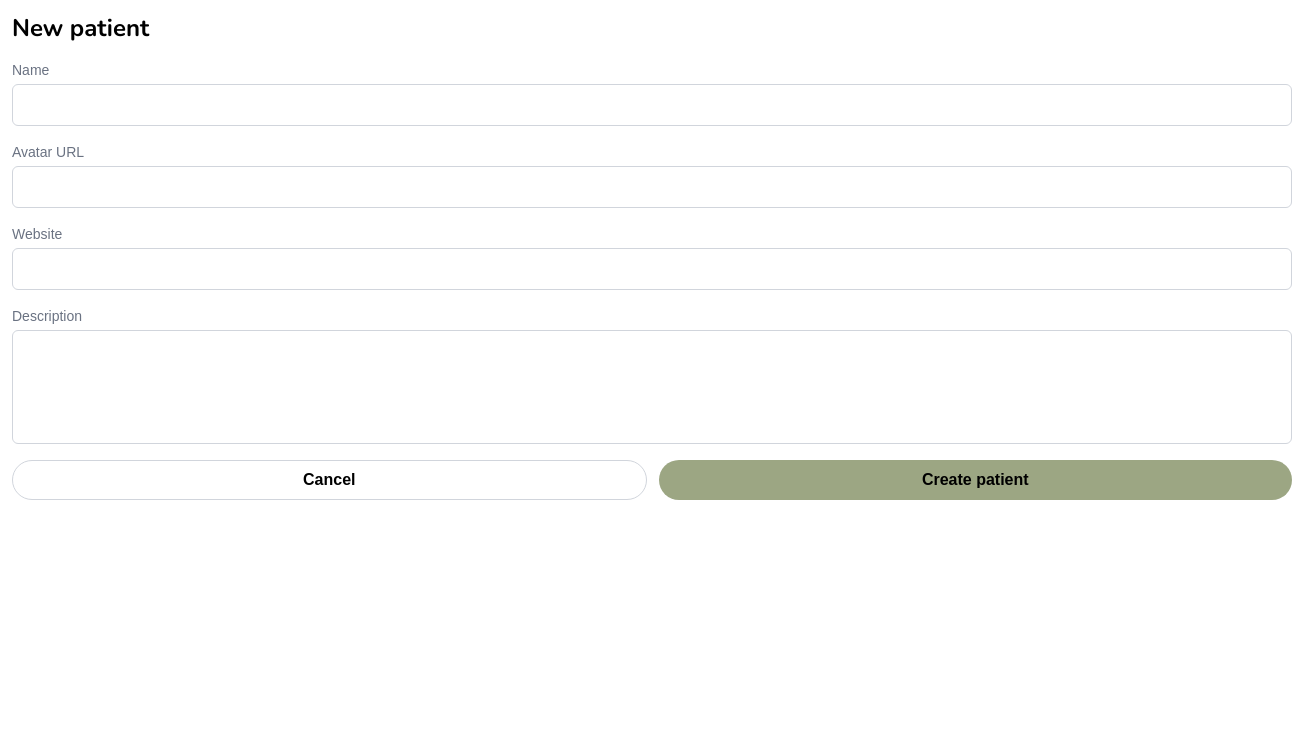
Test case: PatientForm › create mode (patient=null) › shows URL validation error for invalid avatar URL
This screenshot has width=1304, height=732.
Type "Test Patient" into the field labelled "Name" at (652, 105), box top-left (12, 84), bottom-right (1292, 126)
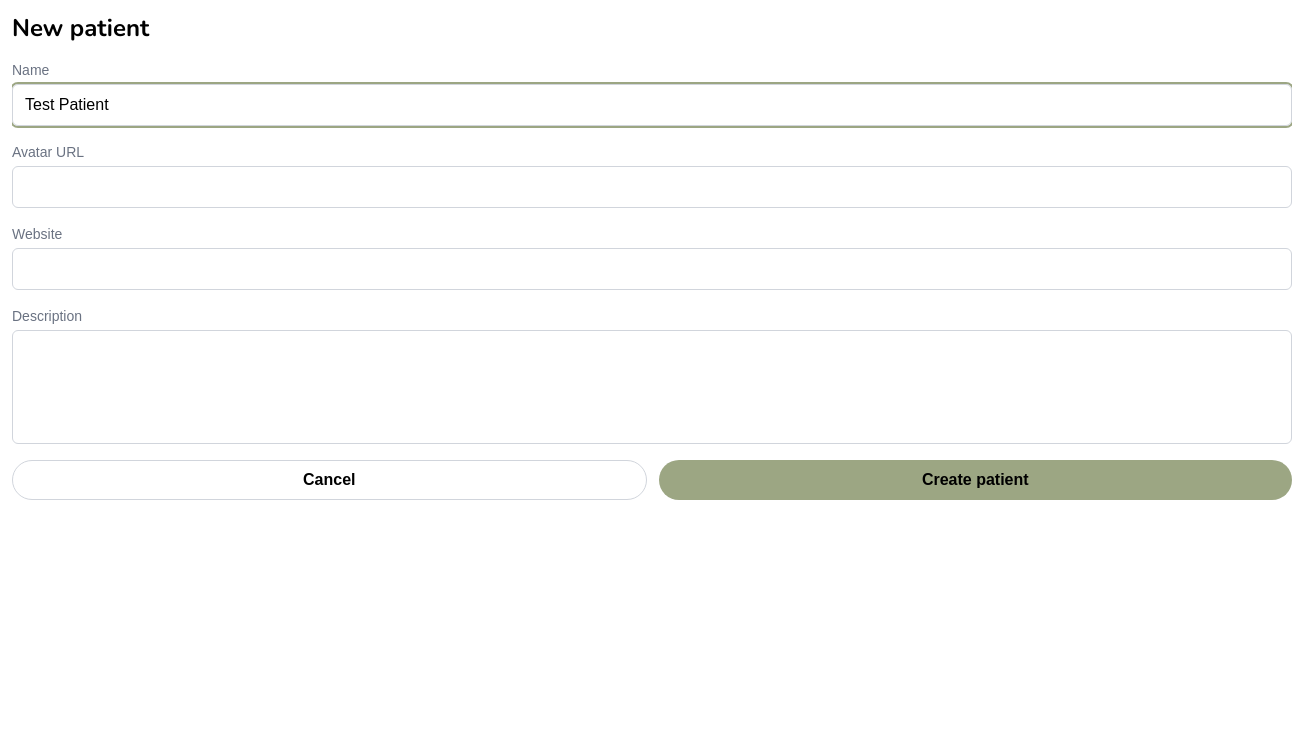
Type "not-a-url" into the field labelled "Avatar URL" at (652, 187), box top-left (12, 166), bottom-right (1292, 208)
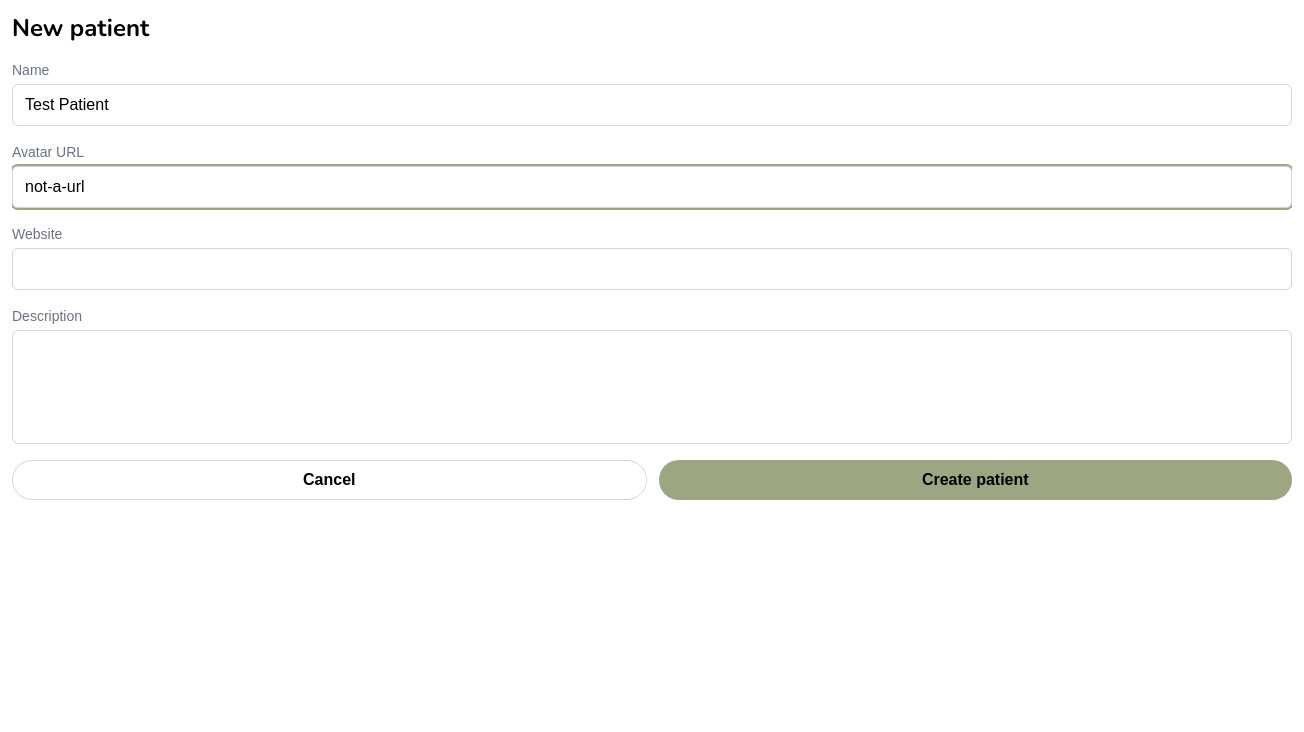
Type "Some description" into the text box labelled "Description" at (652, 387), box top-left (12, 330), bottom-right (1292, 444)
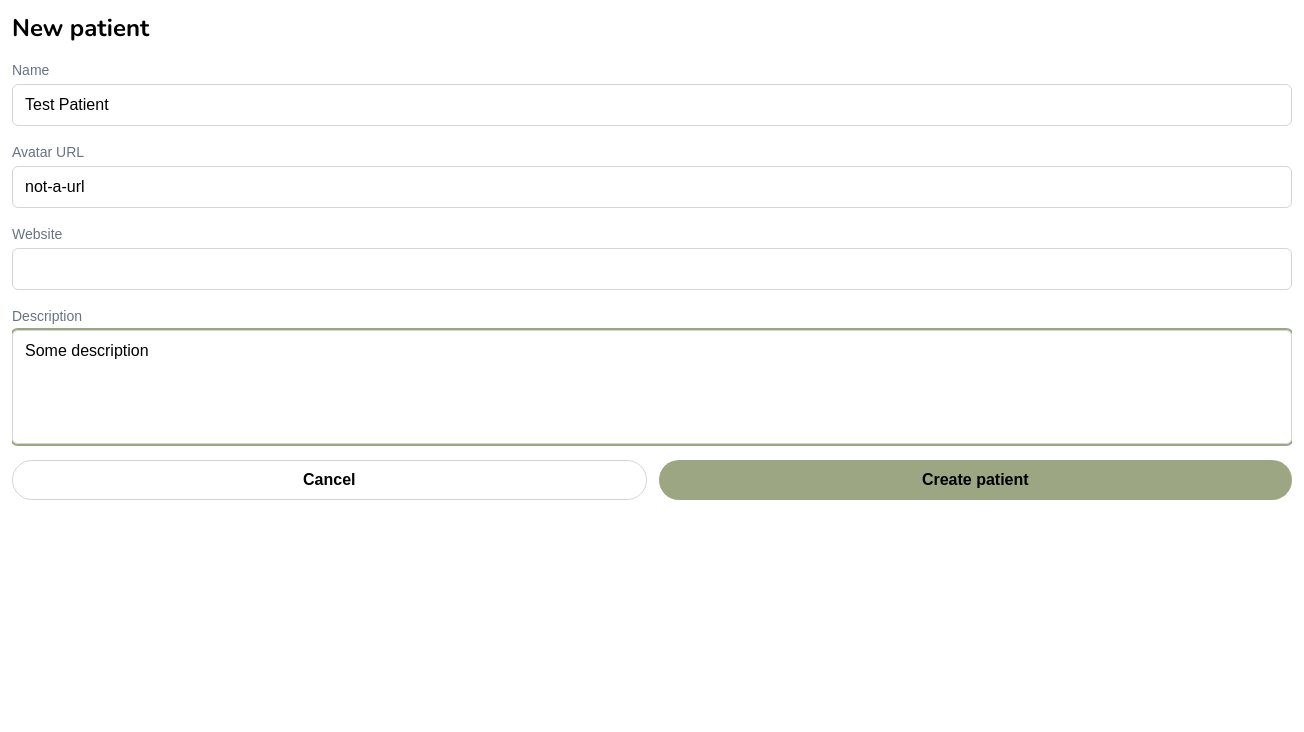
Click the button "Create patient" at (975, 480), box top-left (658, 460), bottom-right (1292, 500)
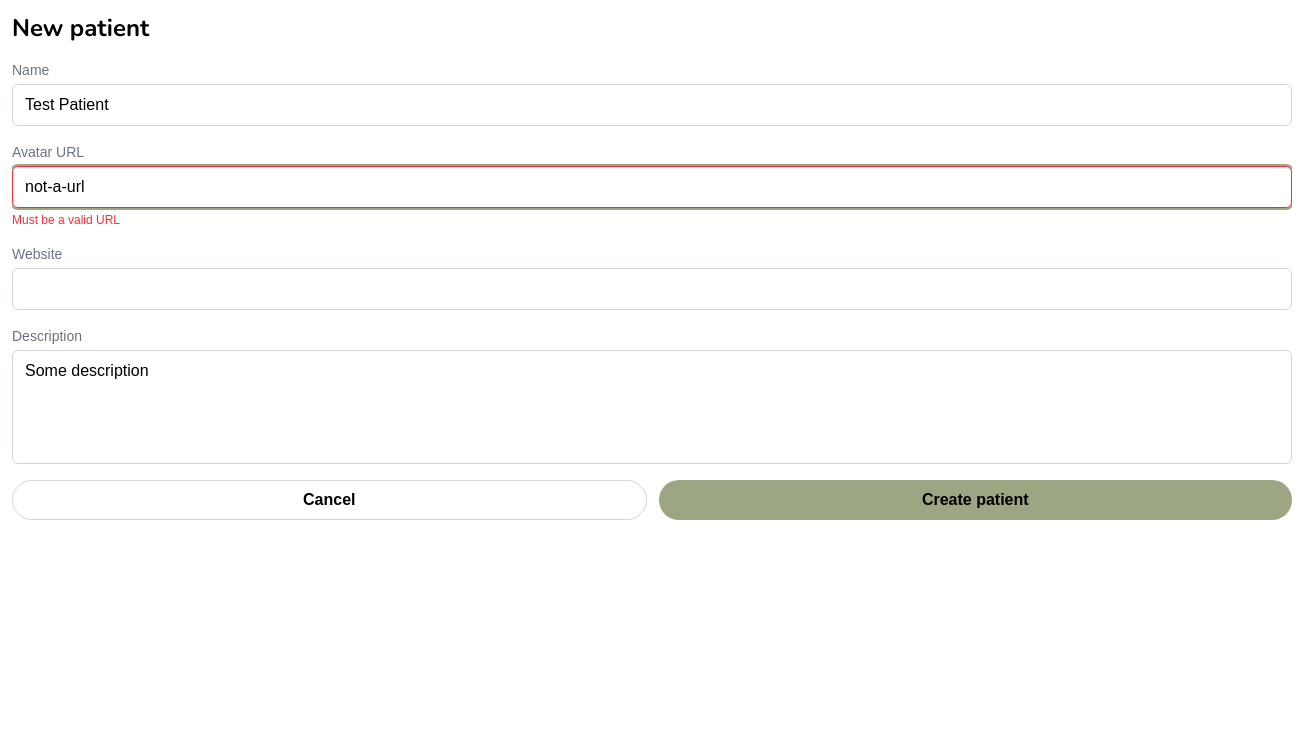
Result: the text "Must be a valid URL" is shown at top-left (12, 213), bottom-right (120, 227)
